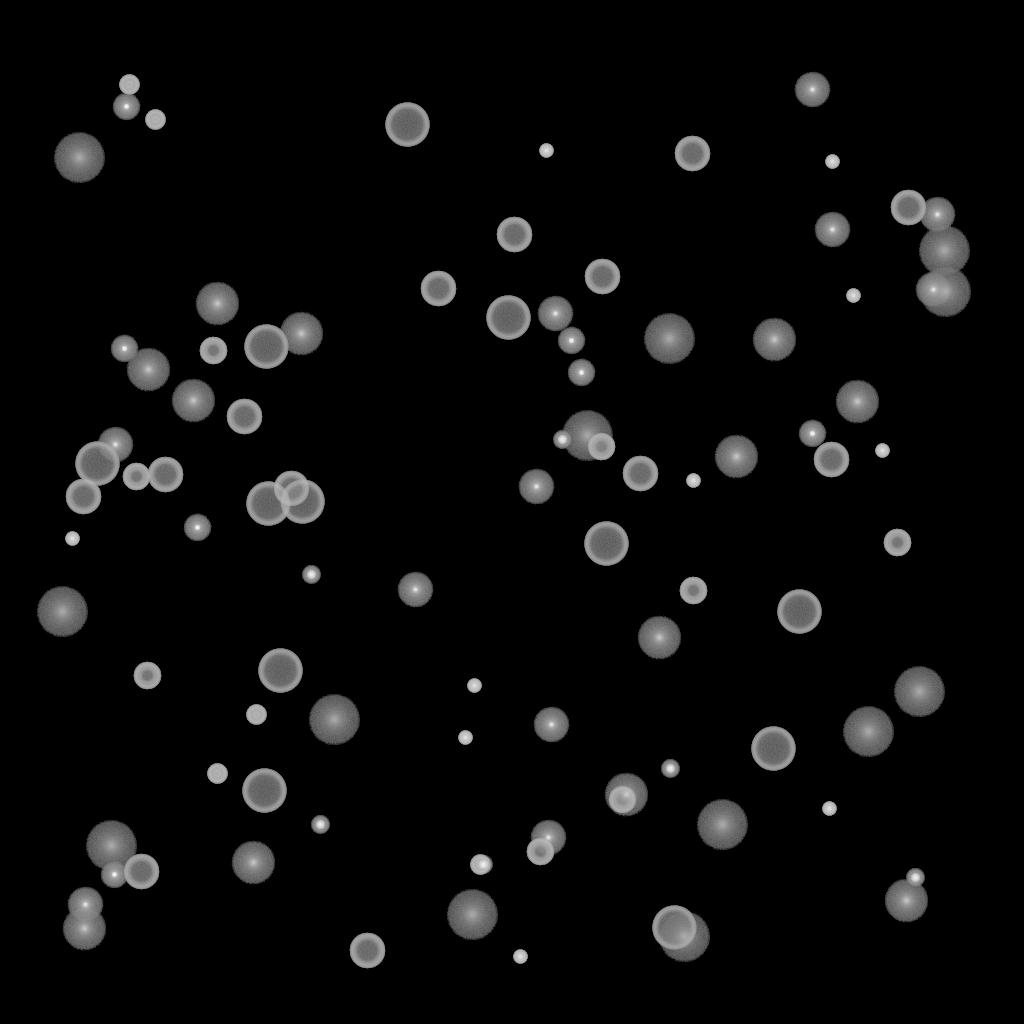depth:-10: (112, 93, 140, 121), (183, 514, 211, 542), (110, 335, 138, 363), (798, 420, 826, 448), (557, 327, 585, 355), (100, 861, 128, 889), (567, 359, 595, 387)
depth:-20: (553, 431, 571, 449), (661, 760, 679, 778), (302, 566, 320, 584), (474, 856, 492, 874), (311, 816, 329, 834), (906, 869, 924, 887)
depth:-30: (875, 444, 889, 458), (467, 679, 481, 693), (539, 144, 553, 158), (513, 950, 527, 964), (686, 474, 700, 488), (825, 155, 839, 169), (65, 532, 79, 546), (458, 731, 472, 745), (822, 802, 836, 816), (846, 289, 860, 303)
depth:-40: (207, 764, 227, 784), (470, 855, 490, 875), (119, 75, 139, 95), (246, 705, 266, 725), (145, 110, 165, 130)
depth:-50: (133, 662, 161, 690), (679, 577, 707, 605), (587, 433, 615, 461), (122, 463, 150, 491), (199, 337, 227, 365), (526, 838, 554, 866), (883, 529, 911, 557), (608, 786, 636, 814)
depth:-60: (349, 933, 385, 969), (65, 479, 101, 515), (813, 442, 849, 478), (226, 399, 262, 435), (123, 854, 159, 890), (147, 457, 183, 493), (890, 190, 926, 226), (674, 136, 710, 172), (496, 217, 532, 253), (420, 271, 456, 307), (584, 259, 620, 295), (622, 456, 658, 492), (273, 471, 309, 507)
depth:-70: (75, 442, 119, 486), (385, 103, 429, 147), (246, 482, 290, 526), (258, 649, 302, 693), (486, 296, 530, 340), (244, 325, 288, 369), (584, 522, 628, 566), (280, 480, 324, 524), (751, 727, 795, 771), (242, 769, 286, 813), (652, 906, 696, 950), (777, 590, 821, 634)
depth:0: (533, 707, 569, 743), (67, 887, 103, 923), (814, 212, 850, 248), (919, 197, 955, 233), (915, 272, 951, 308), (518, 469, 554, 505), (530, 820, 566, 856), (397, 572, 433, 608), (97, 427, 133, 463), (537, 296, 573, 332), (794, 72, 830, 108)
depth:10: (195, 282, 239, 326), (884, 879, 928, 923), (171, 379, 215, 423), (714, 435, 758, 479), (604, 773, 648, 817), (126, 348, 170, 392), (62, 907, 106, 951), (752, 318, 796, 362), (231, 841, 275, 885), (637, 616, 681, 660), (835, 380, 879, 424), (279, 312, 323, 356)
depth:20: (446, 890, 498, 940), (658, 912, 710, 962), (918, 226, 970, 276), (561, 411, 613, 461), (308, 695, 360, 745), (85, 821, 137, 871), (53, 133, 105, 183), (696, 800, 748, 850), (643, 314, 695, 364), (919, 267, 971, 317), (893, 667, 945, 717), (842, 707, 894, 757), (36, 587, 88, 637)
